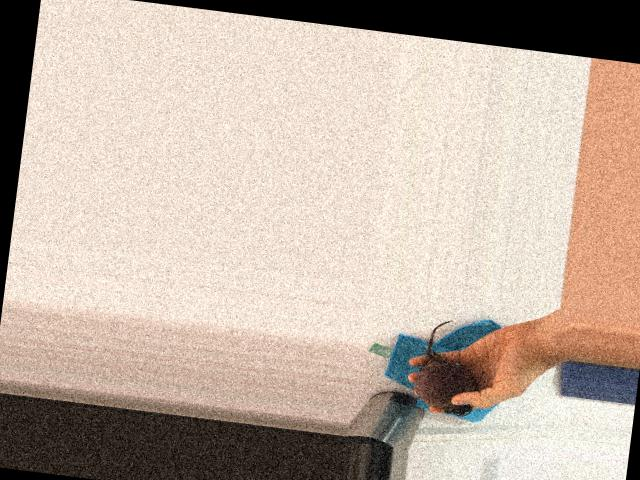beet: (410, 316, 488, 417)
